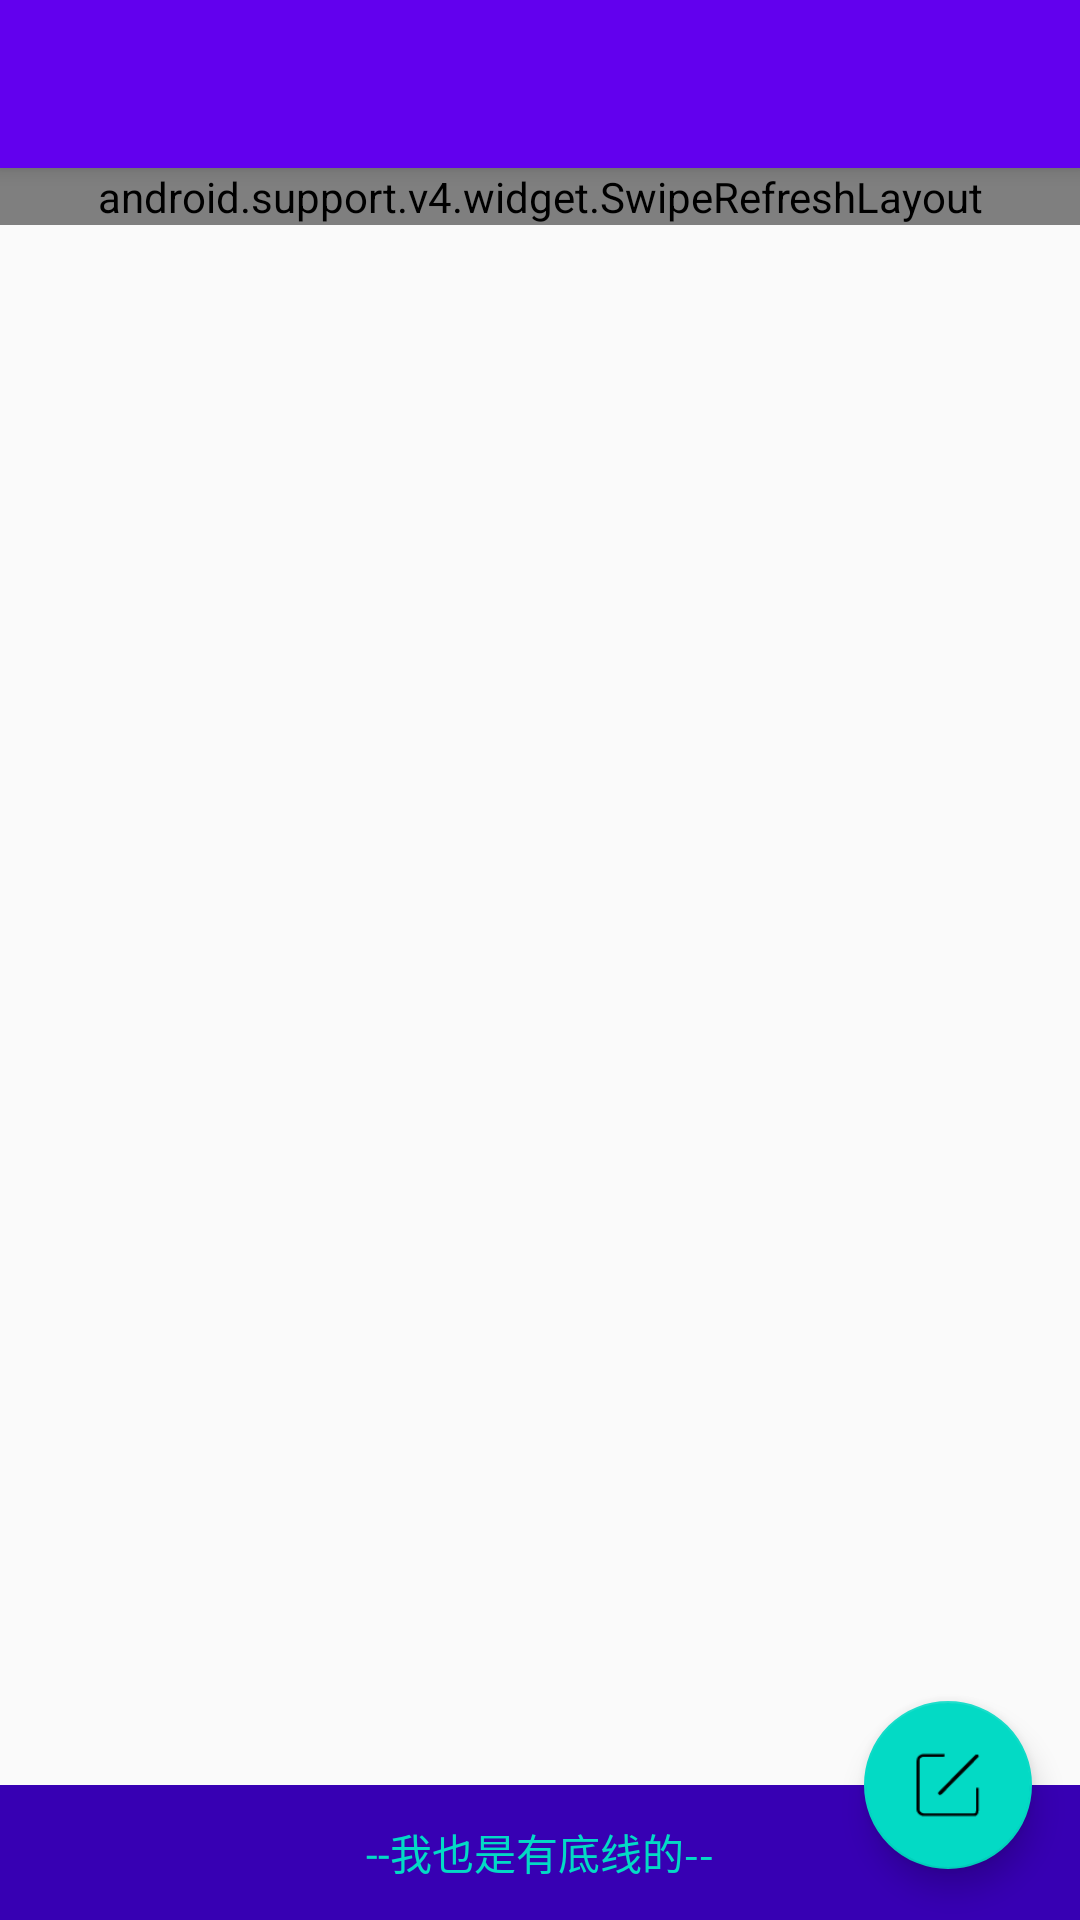

Named icons in this screenshot (1080px x 1920px) and their centers, (x=x, y=y):
edit: (x=948, y=1785)
